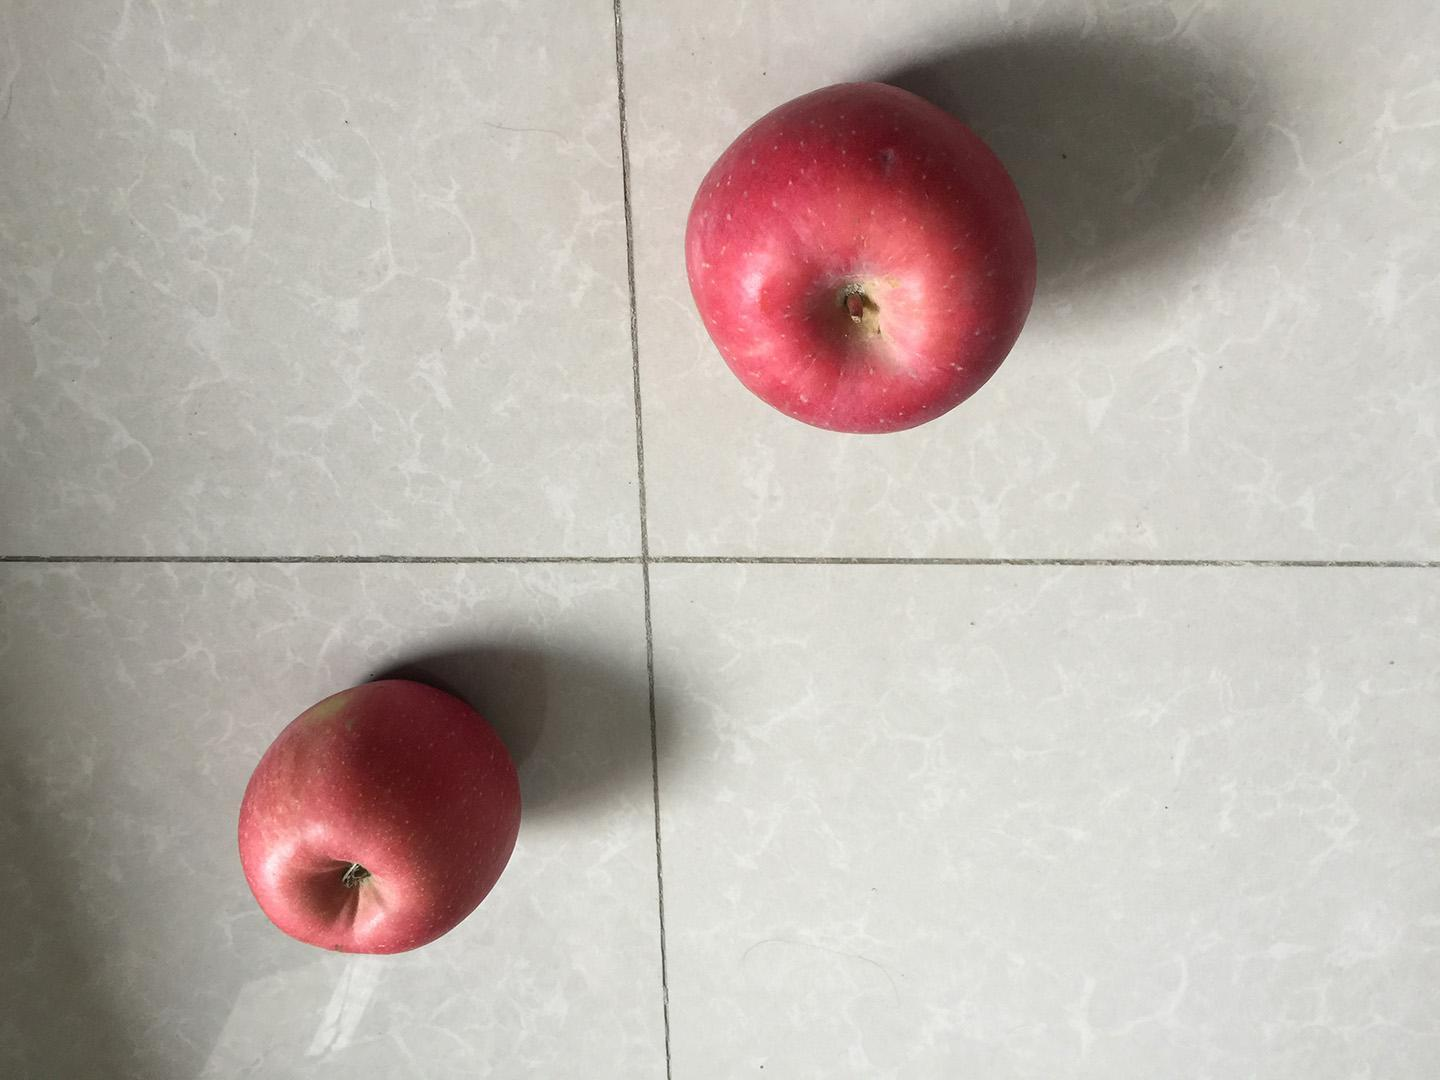apple: (675, 71, 1049, 440), (229, 670, 528, 962)
